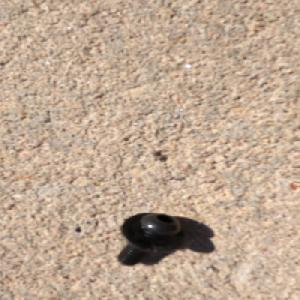BoltWasher: (115, 210, 188, 266)
